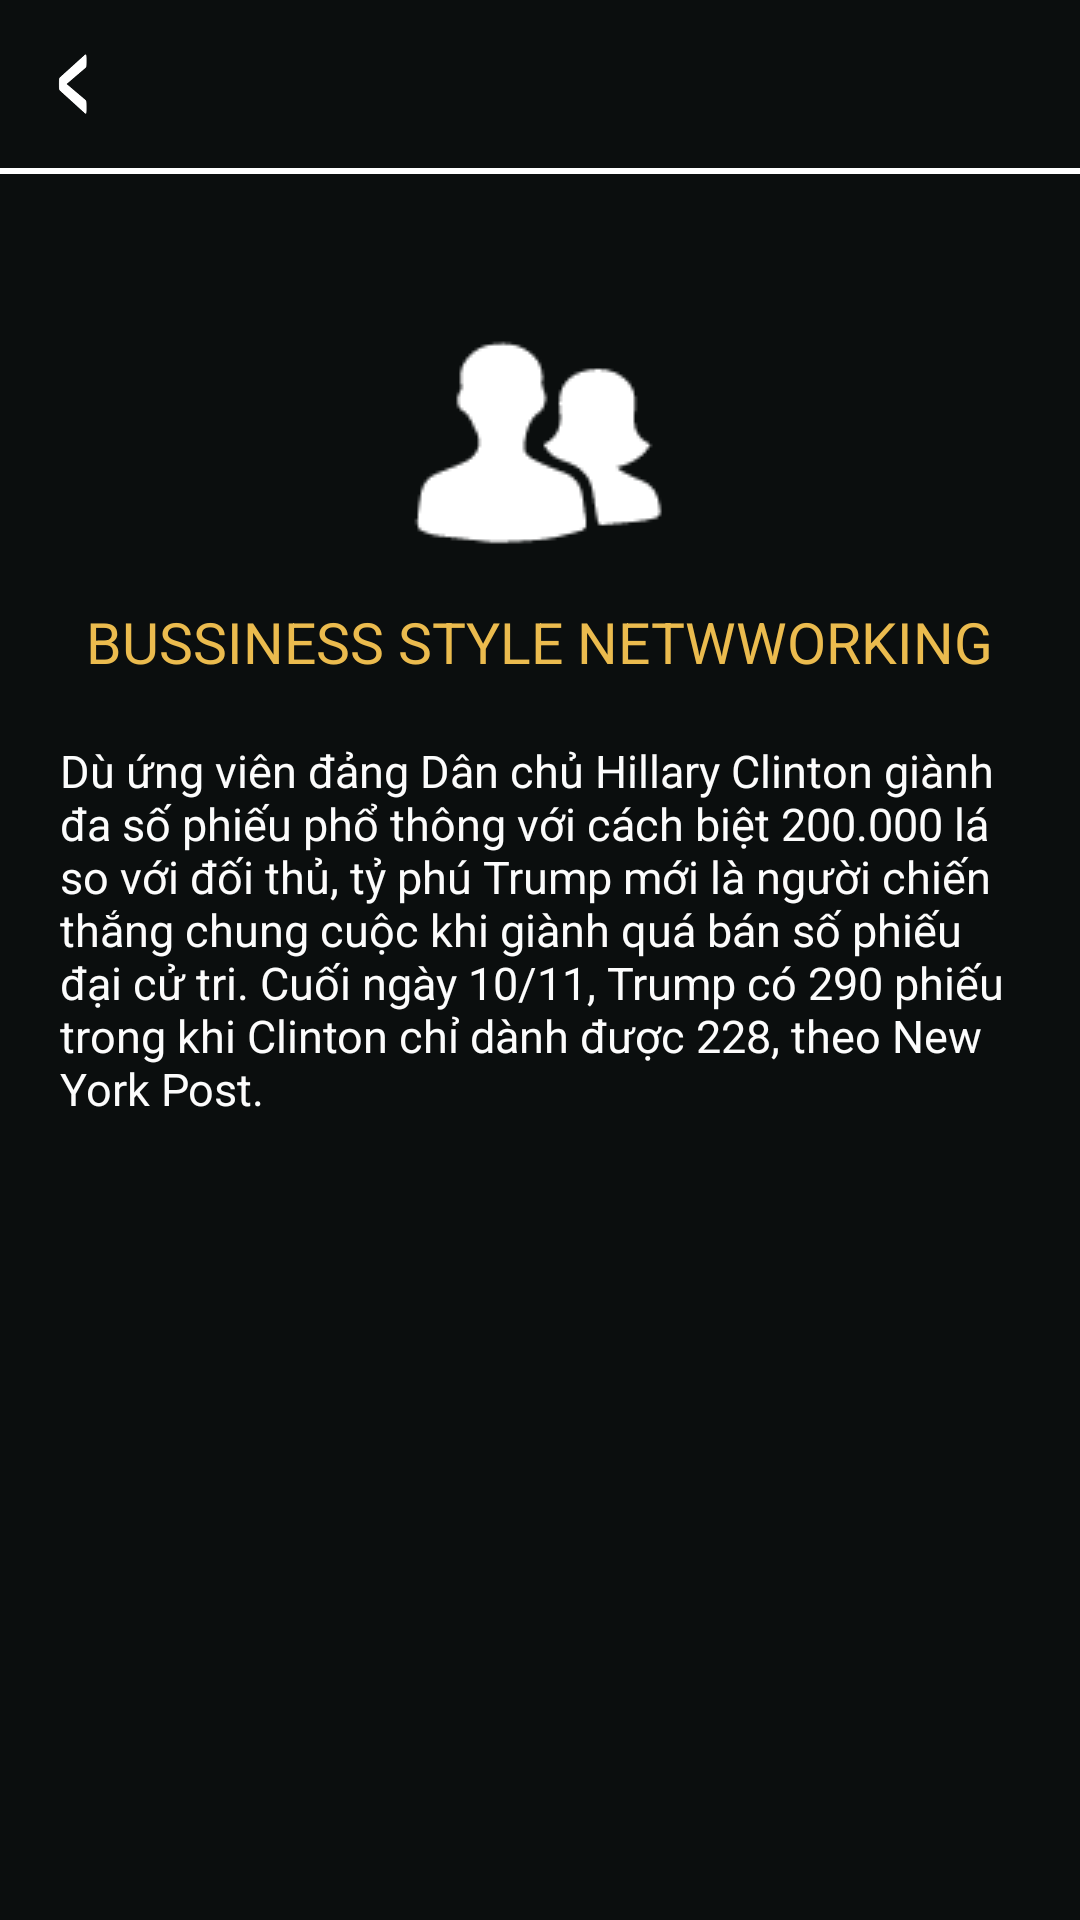

Point at icon controls on the screen. Image size 1080 × 1920, points as point (x, y).
about us: point (538, 442)
iconback: point (73, 84)
